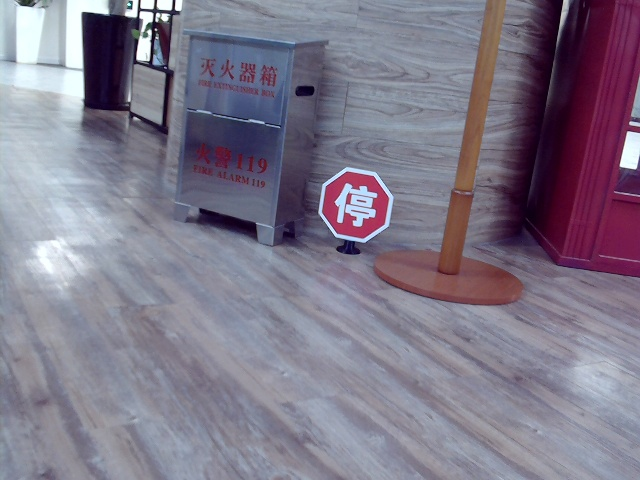stop: (334, 183, 378, 226)
